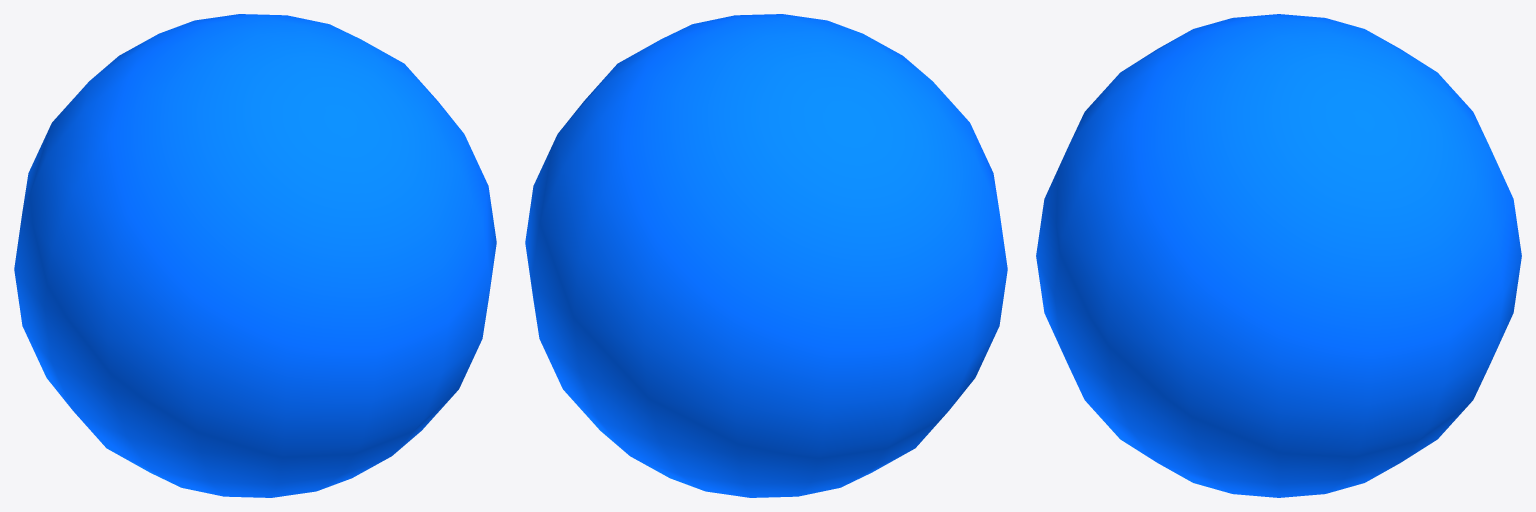
Rendered from Candy_02.glb.
3 views of the same model, side by side, from view 1: azimuth 30°, elevation 25°; view 2: azimuth 150°, elevation 25°; view 3: azimuth 270°, elevation 25° (orthographic).
Parts seen in each view (by area): view 1: Candy_02; view 2: Candy_02; view 3: Candy_02.
Boxes of the visible parts, x1=… form: Candy_02: x1=14, y1=14, x2=496, y2=497; Candy_02: x1=525, y1=14, x2=1007, y2=497; Candy_02: x1=1036, y1=14, x2=1521, y2=497.
Bounding box in the file's own units: 1.22 × 1.22 × 1.22.
Materials: 1 (1 with a texture image).
